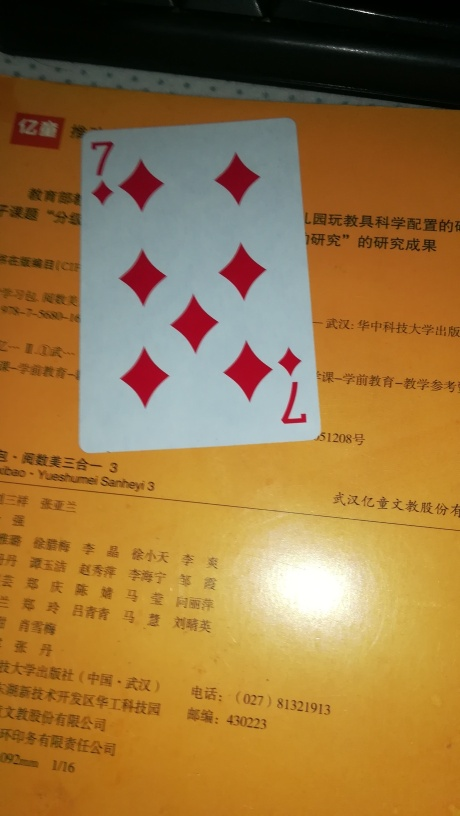fk 7: (81, 134, 321, 448)
